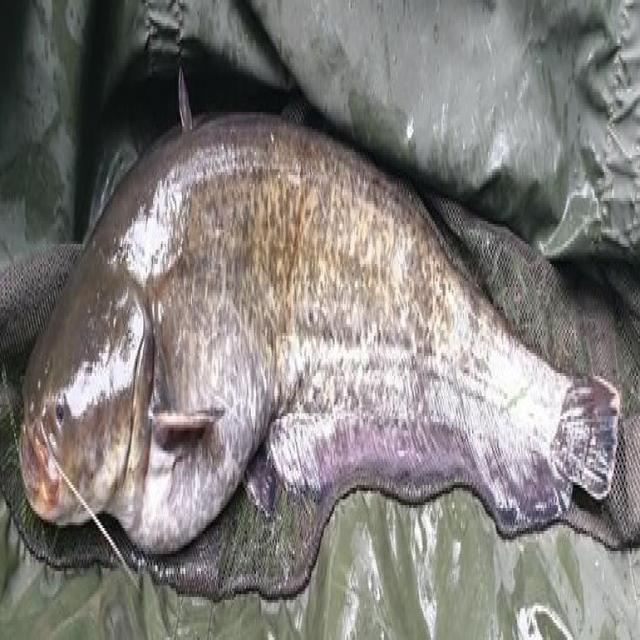Catfish: (7, 104, 635, 621)
